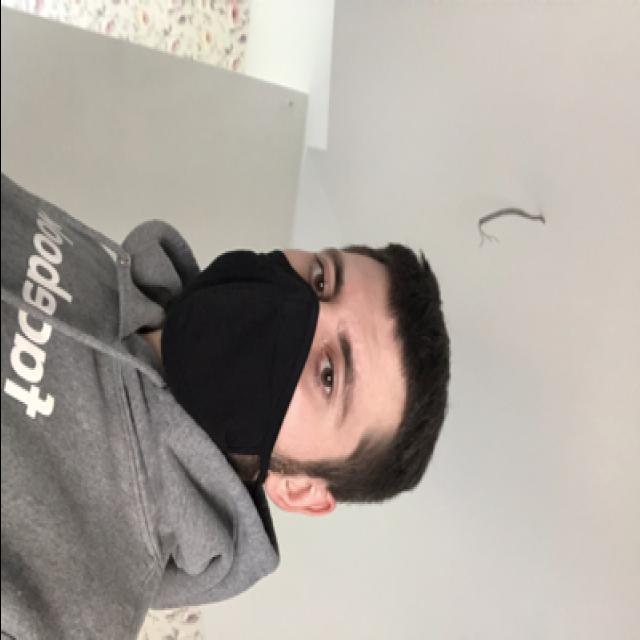with_mask: (162, 251, 380, 463)
